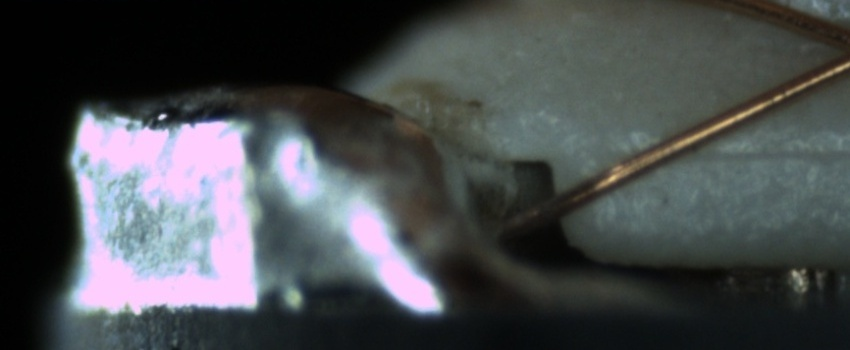CL: (806, 7, 850, 84)
DL: (676, 119, 848, 186)
